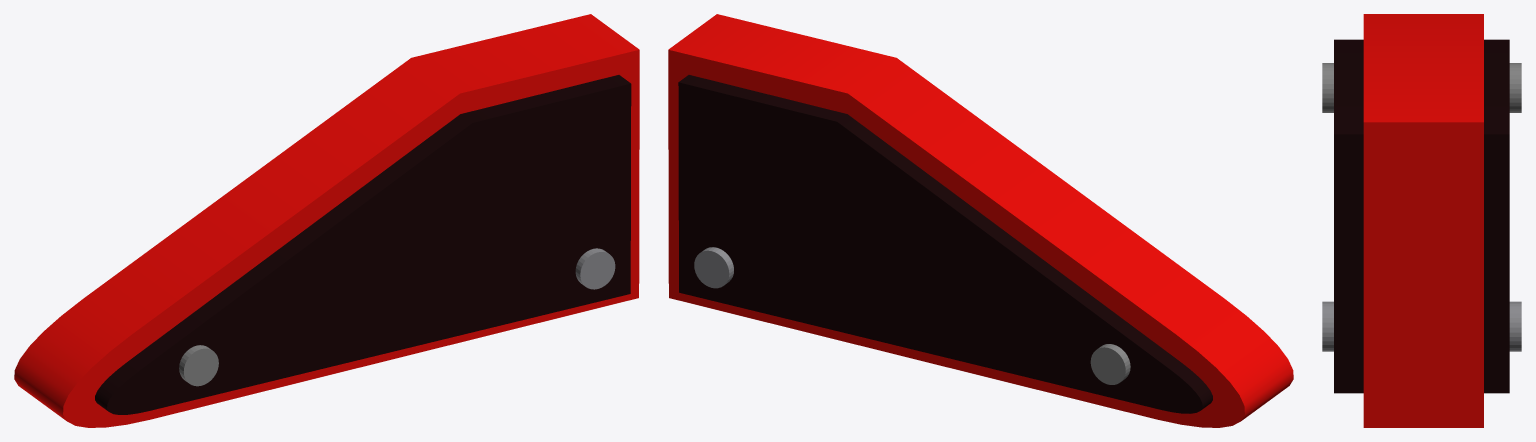
File: btm.fbx
The picture shows the model from 3 angles, left to right: view 1: azimuth 30°, elevation 25°; view 2: azimuth 150°, elevation 25°; view 3: azimuth 270°, elevation 25°; orthographic projection. The views are drawn at different scales.
Parts seen in each view (by area): view 1: Cube; view 2: Cube; view 3: Cube.
Boxes of the visible parts, x1,y1,x2,y2 form: Cube: (14,14,639,427); Cube: (668,14,1293,427); Cube: (1322,14,1521,427).
Bounding box in the file's own units: 1229 × 510 × 299.
